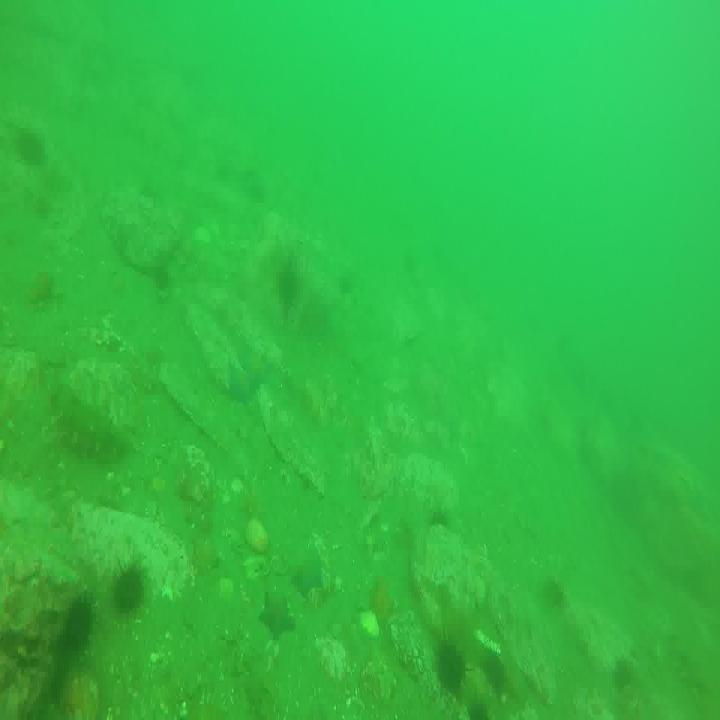echinus: (109, 564, 152, 622), (56, 594, 91, 660), (436, 637, 467, 683), (482, 647, 505, 694), (278, 266, 298, 299), (20, 133, 42, 161), (150, 262, 172, 289), (468, 700, 491, 720), (428, 504, 445, 531)
holothurian: (49, 386, 126, 464)
scallop: (360, 601, 381, 644)
starfish: (258, 590, 293, 635), (291, 556, 321, 594)
